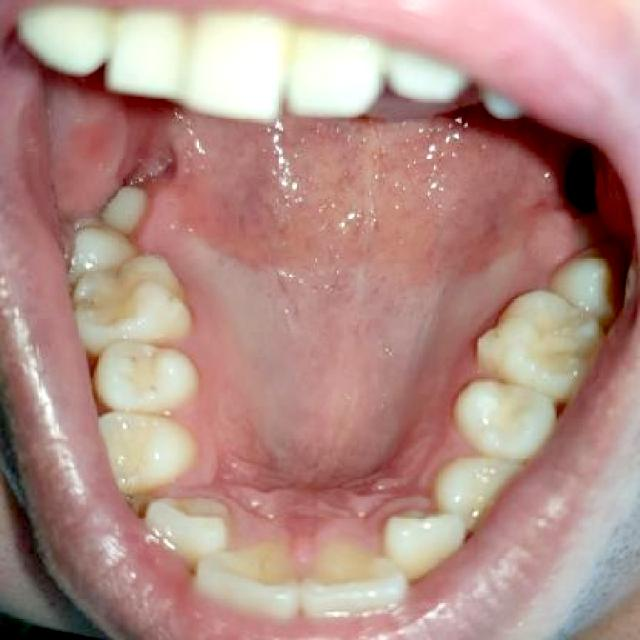Plaque: (118, 170, 183, 270)
